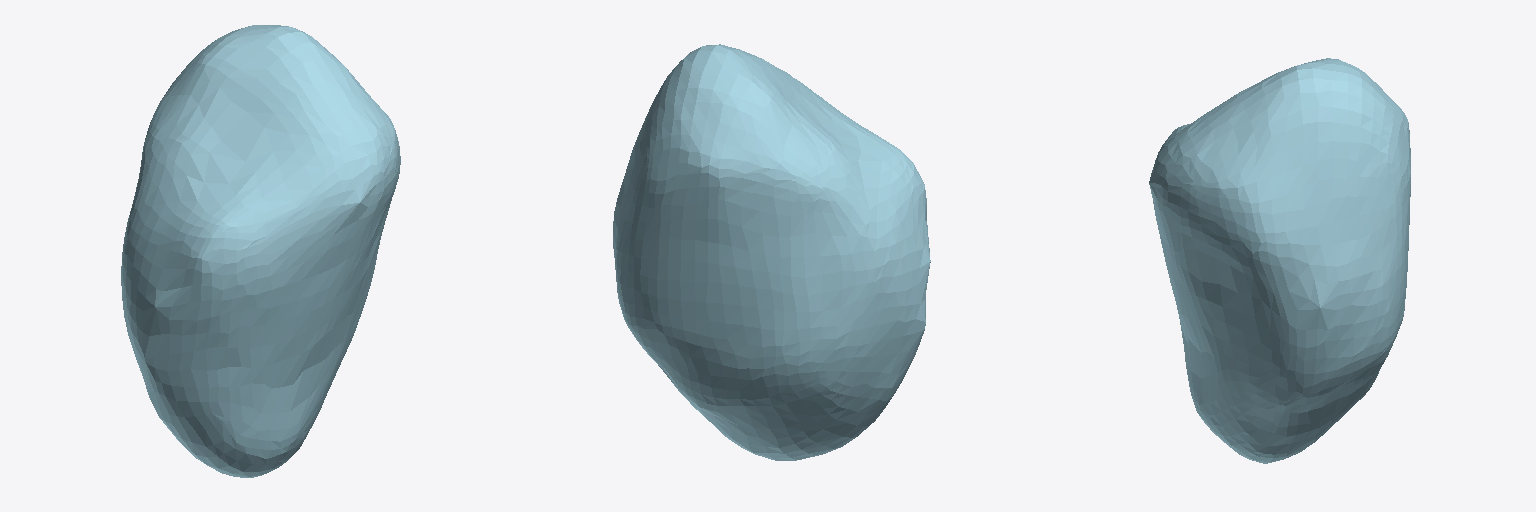
The model's file is SesamoidM.obj.
The picture shows the model from 3 angles: view 1: azimuth 30°, elevation 25°; view 2: azimuth 150°, elevation 25°; view 3: azimuth 270°, elevation 25°; orthographic projection.
Visible parts, largest first — view 1: Object_0SesamoidM; view 2: Object_0SesamoidM; view 3: Object_0SesamoidM.
Part boxes in pixels (x1,y1,x2,y2): Object_0SesamoidM: (121,25,400,477); Object_0SesamoidM: (613,44,930,460); Object_0SesamoidM: (1149,58,1410,463).
Bounding box in the file's own units: 9.79 × 14.39 × 8.26.